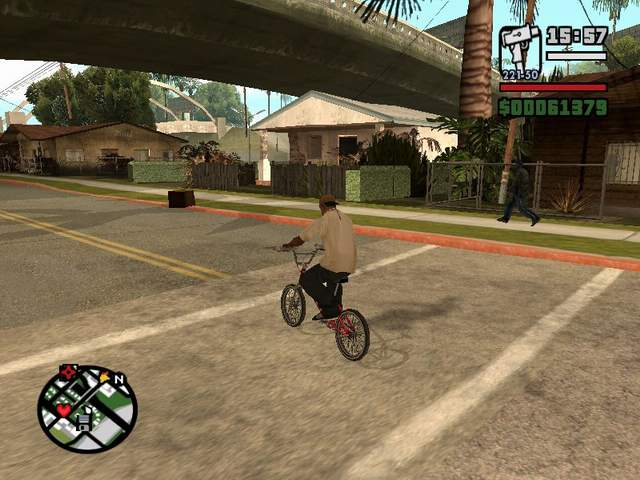bike: (279, 235, 375, 360)
